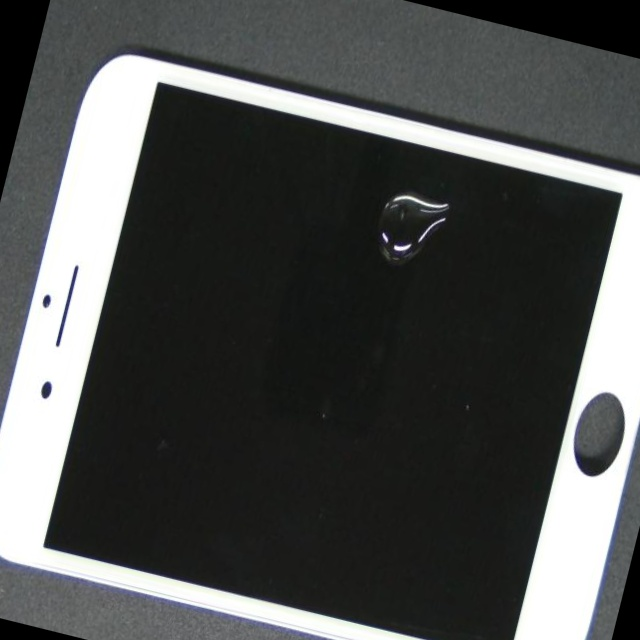oil: (224, 60, 640, 348)
